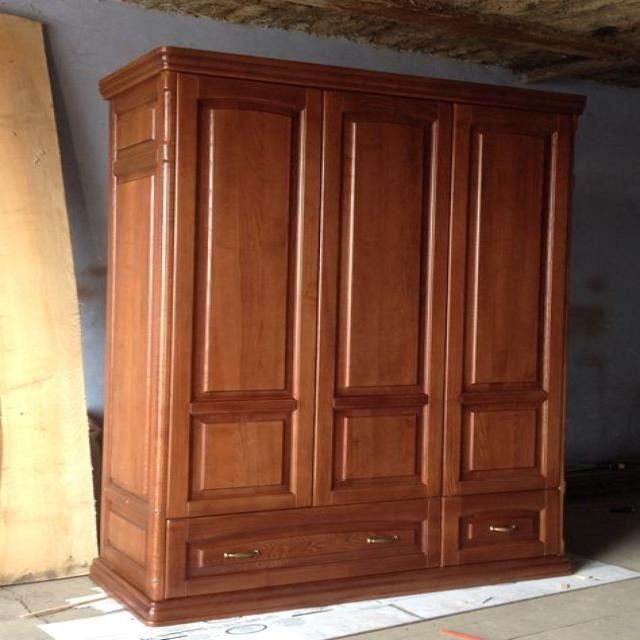Woods: (88, 47, 585, 627)
